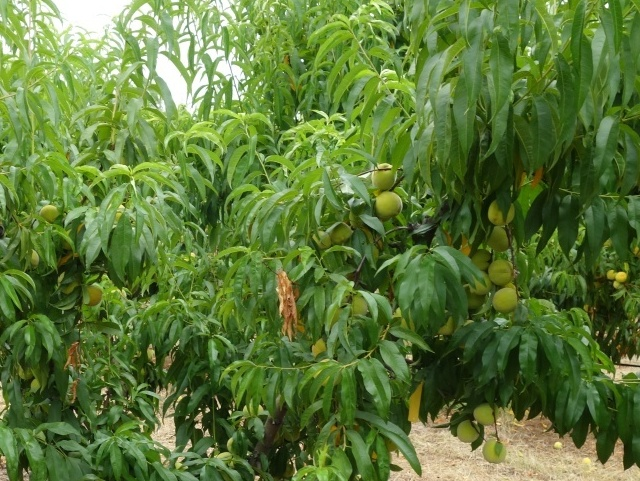peach: (371, 188, 405, 224), (487, 253, 519, 289), (484, 220, 516, 255), (485, 193, 517, 226), (369, 160, 400, 194), (493, 281, 523, 314), (466, 264, 496, 297), (470, 399, 502, 428), (455, 416, 483, 447), (483, 438, 511, 467), (469, 247, 497, 275), (326, 220, 352, 250), (307, 228, 333, 253), (82, 280, 105, 308), (36, 201, 61, 226)
